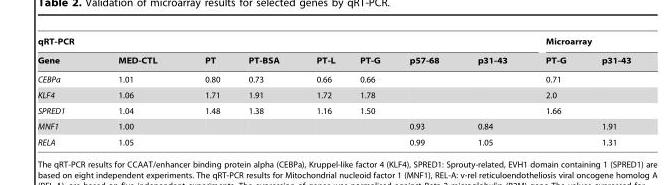table: (36, 36, 630, 146)
table column: (90, 36, 180, 146), (457, 36, 525, 146), (233, 36, 297, 146), (394, 36, 457, 146), (525, 36, 583, 146), (36, 36, 90, 146), (180, 36, 233, 146), (297, 36, 346, 146), (346, 36, 394, 146), (583, 36, 630, 146)
table column header: (36, 36, 630, 69)
table row: (36, 50, 630, 69), (36, 69, 630, 87), (36, 102, 630, 118), (36, 118, 630, 134), (36, 87, 630, 102), (36, 36, 630, 50), (36, 134, 630, 146)
table spanning cell: (36, 36, 525, 50), (525, 36, 630, 50)
